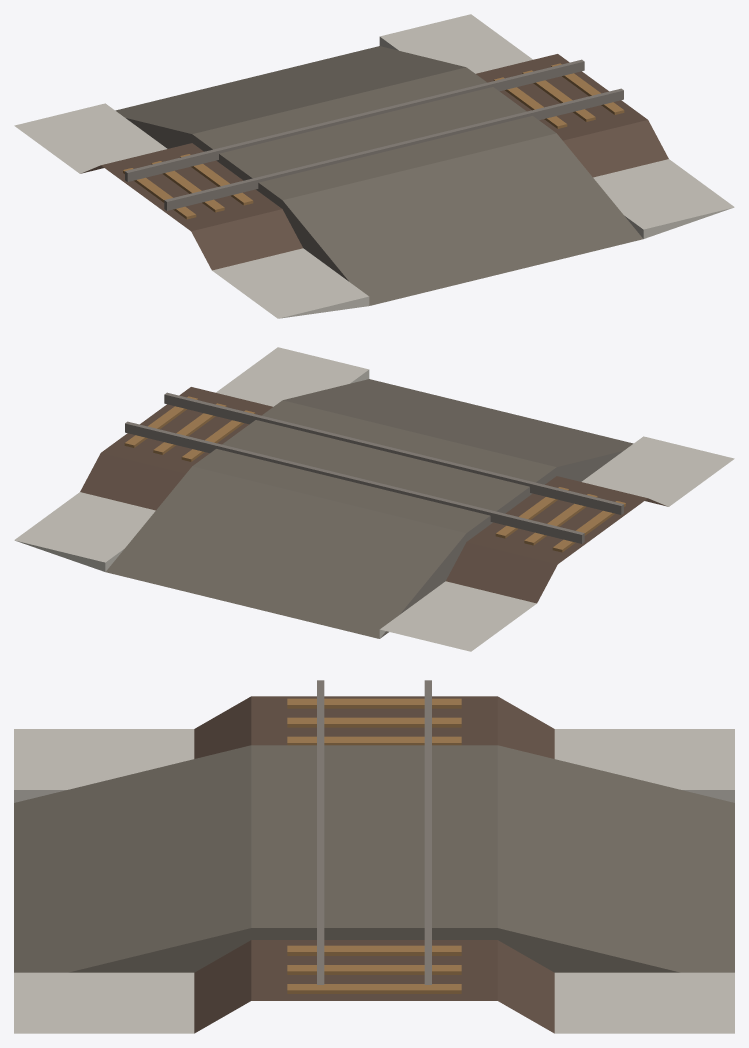
File: rail-tile_02.fbx
3 renders of one model, top to bottom at view 1: azimuth 30°, elevation 25°; view 2: azimuth 150°, elevation 25°; view 3: azimuth 270°, elevation 25°, orthographic. The views are drawn at different scales.
Visible parts, largest first — view 1: rail-tile_02; view 2: rail-tile_02; view 3: rail-tile_02.
Part boxes in pixels (x1,y1,x2,y2): rail-tile_02: (14, 14, 734, 318); rail-tile_02: (14, 347, 734, 651); rail-tile_02: (14, 680, 734, 1033).
Bounding box in the file's own units: 1000 × 94.58 × 1000.
